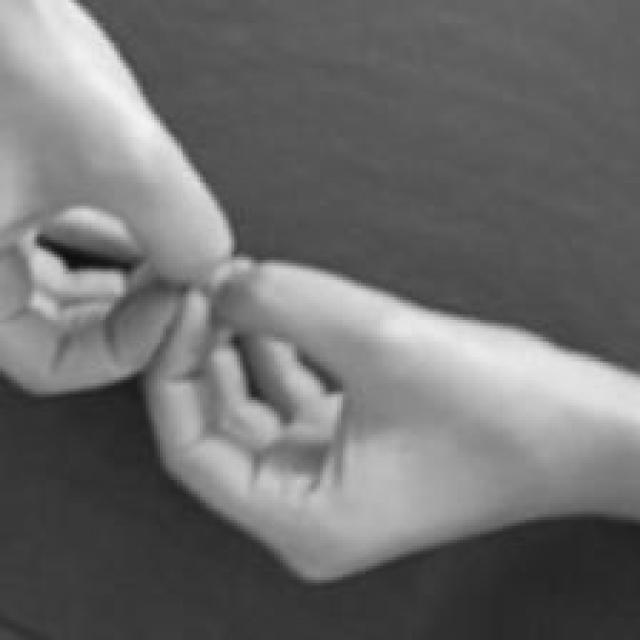B: (0, 5, 573, 586)
